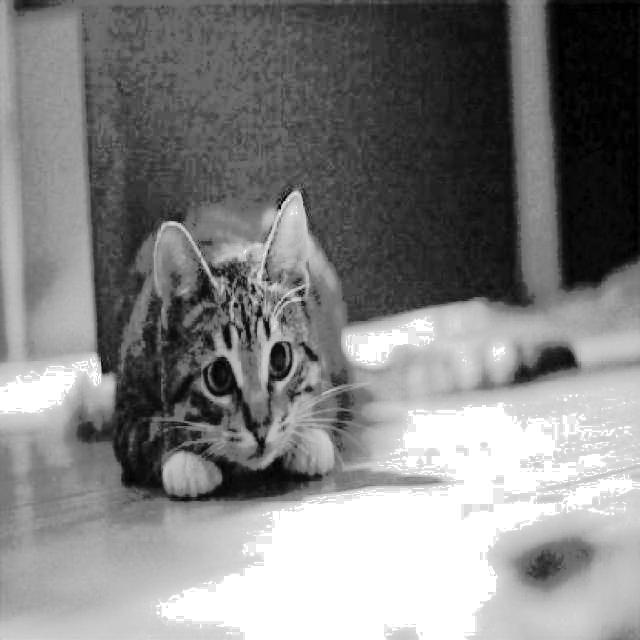Cat: (109, 185, 580, 508)
